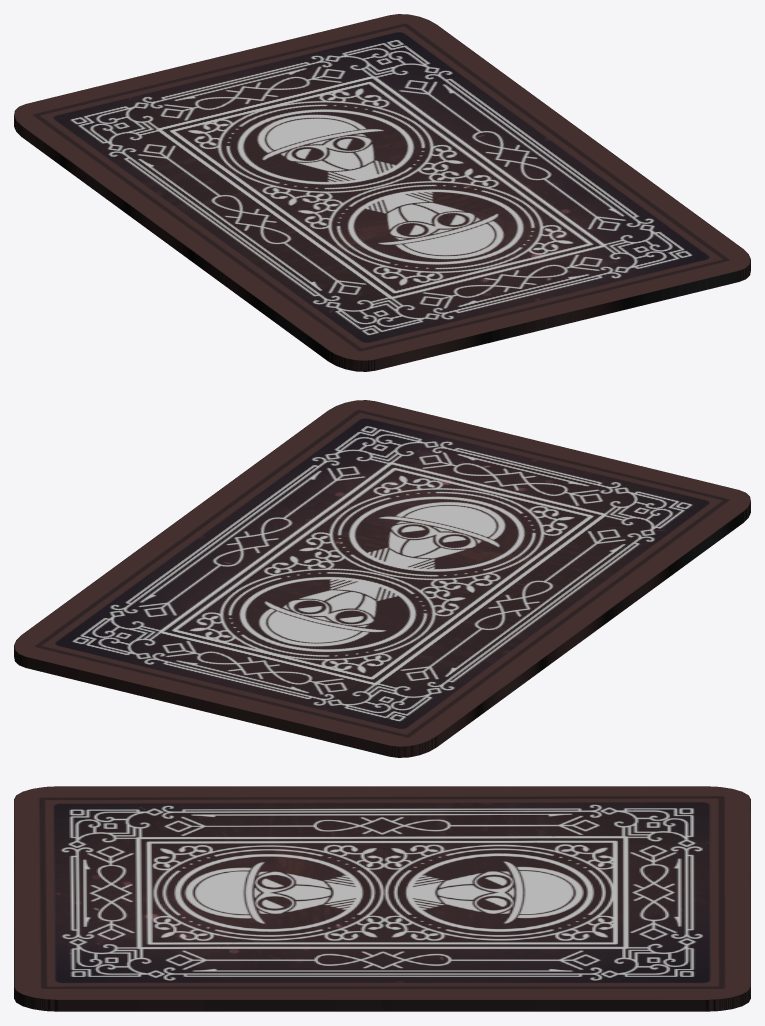
The model's file is UMMModel1.glb.
3 renders of one model, top to bottom at view 1: azimuth 30°, elevation 25°; view 2: azimuth 150°, elevation 25°; view 3: azimuth 270°, elevation 25°, orthographic. The views are drawn at different scales.
Visible parts, largest first — view 1: Plane.002; view 2: Plane.002; view 3: Plane.002.
Boxes of the visible parts, bbox=[...] form: Plane.002: bbox=[14, 14, 750, 371]; Plane.002: bbox=[14, 400, 750, 757]; Plane.002: bbox=[14, 786, 750, 1011].
Size of the model in its own units: 2.28 by 0.0618 by 3.32.
2 materials, 2 textured.
